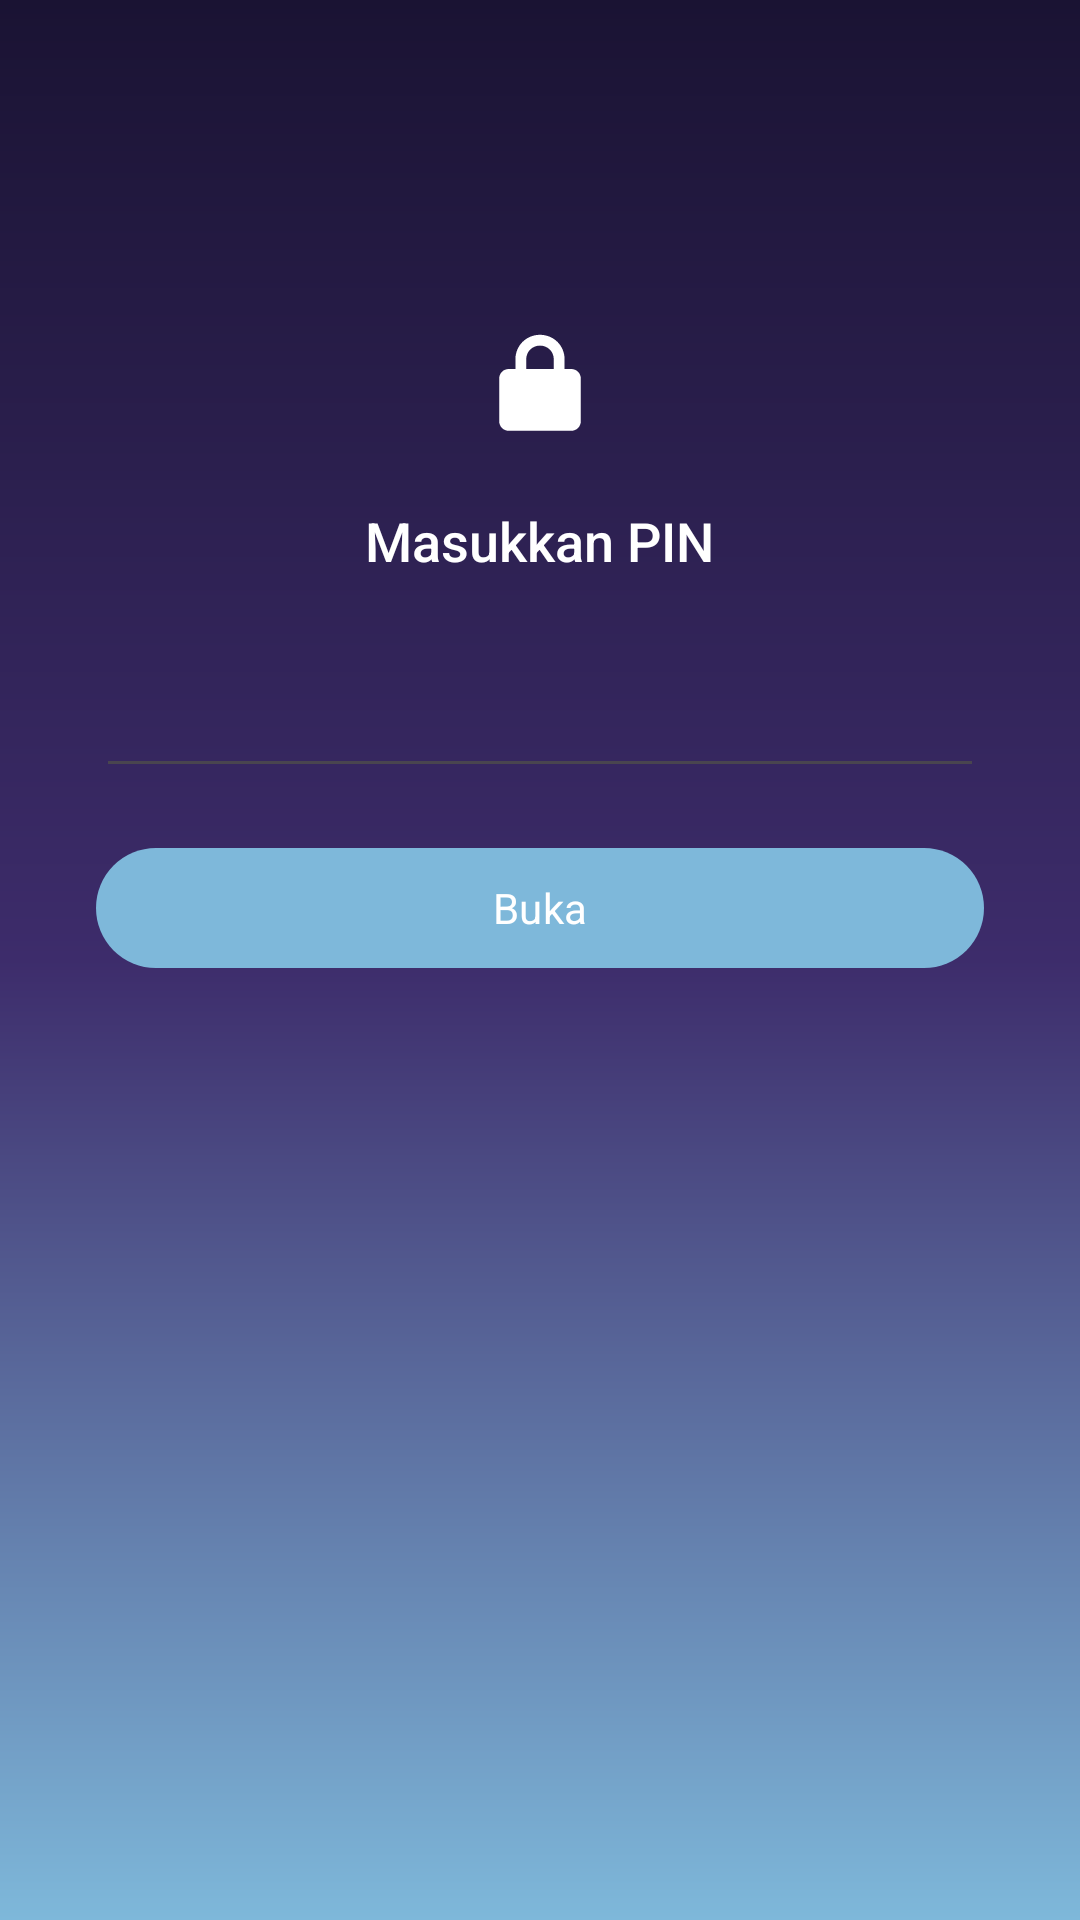

Icon bounding boxes for this 1080×1920 phone screenshot, format [x1=x1, y1=y1, x2=x2, y2=y2]:
Kunci Aplikasi: [x1=499, y1=334, x2=581, y2=431]
